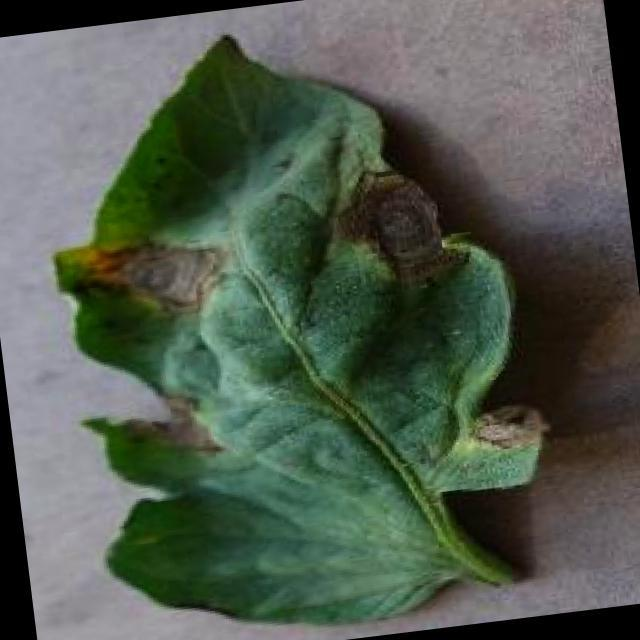Tomato Early blight leaf: (24, 0, 575, 640)
